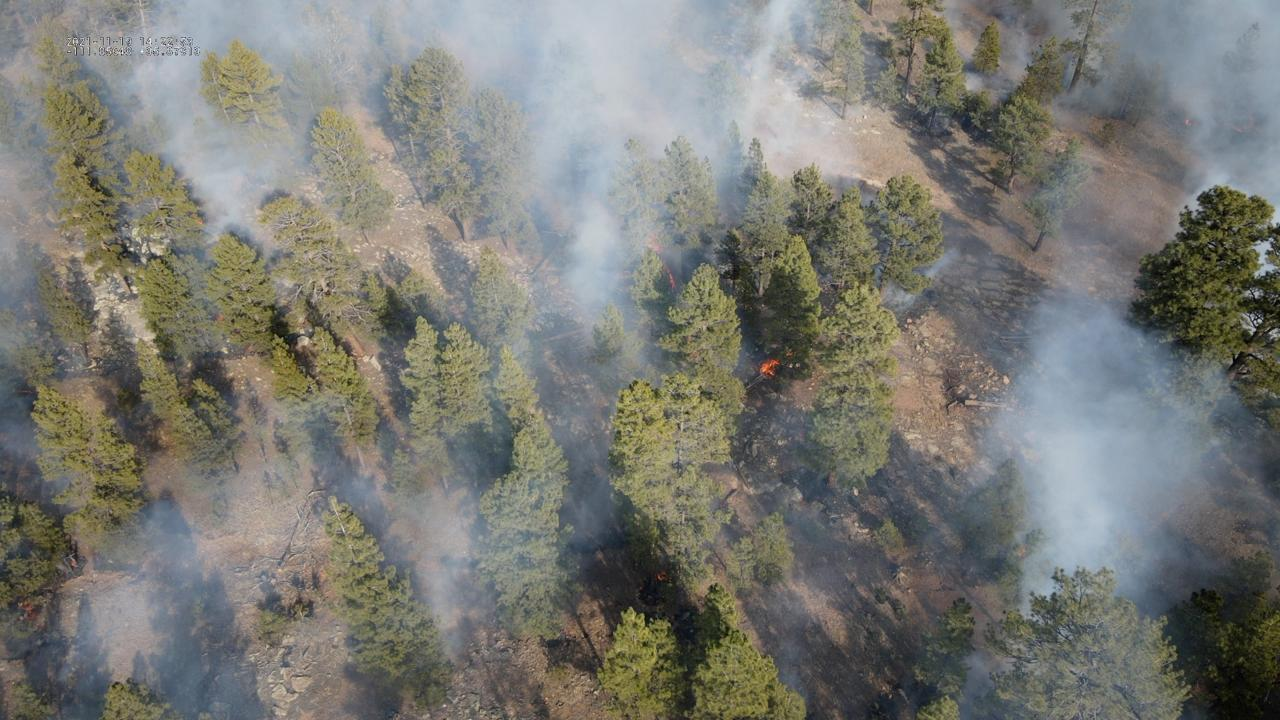fire: (756, 351, 781, 378), (644, 231, 664, 254), (661, 261, 676, 290), (19, 601, 38, 623), (654, 568, 669, 580), (214, 313, 225, 322), (196, 218, 206, 226), (786, 351, 793, 357)
smoke: (0, 0, 1280, 720)
